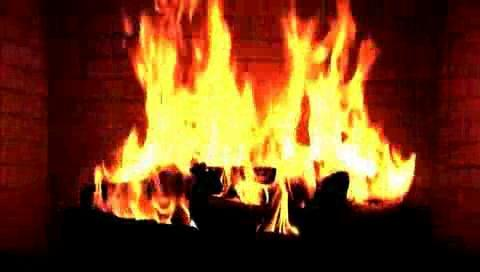fire: (122, 1, 401, 222)
